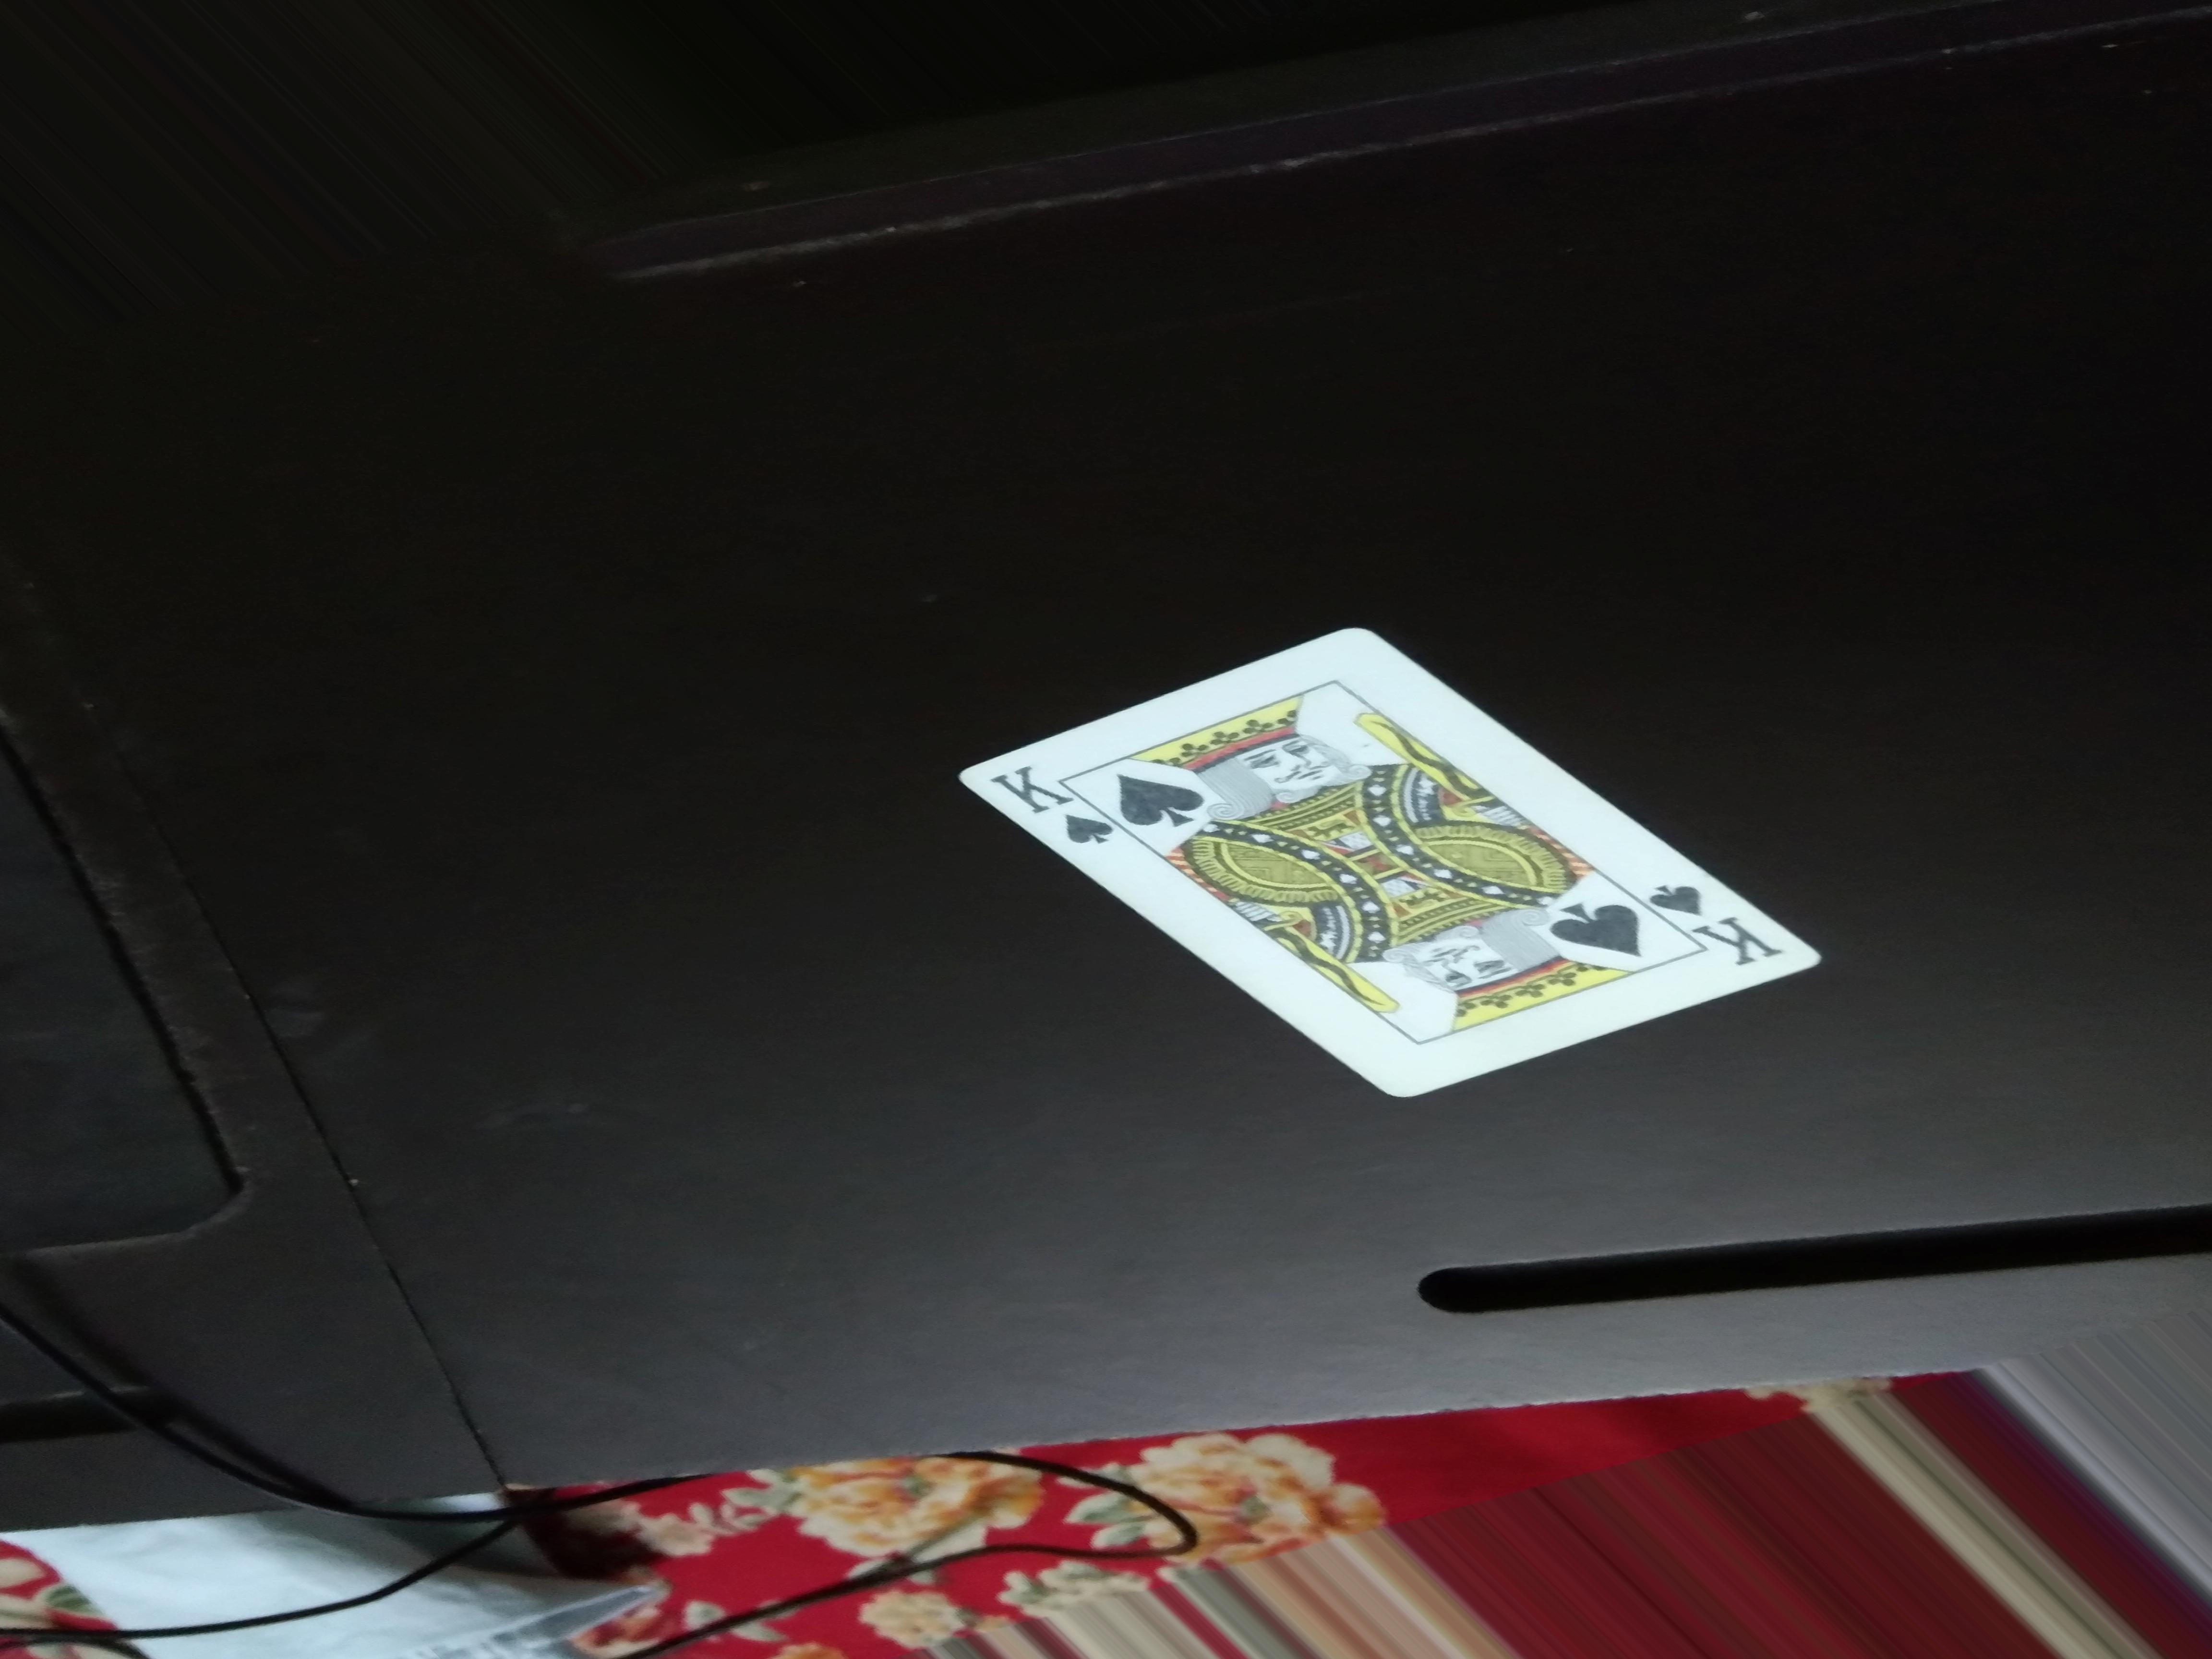KS: (995, 765, 1113, 847)
